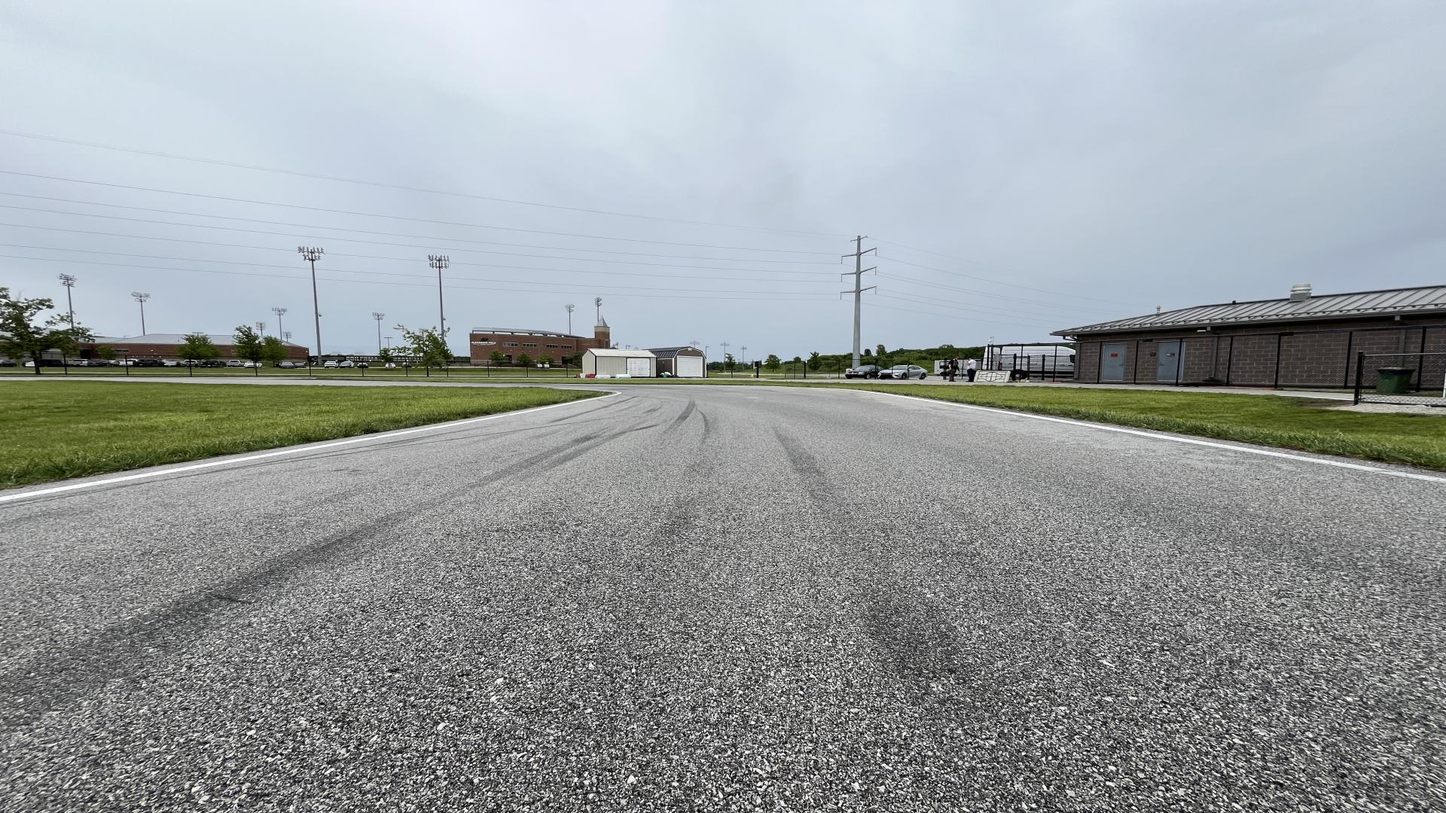white-line: (121, 446, 313, 482), (1265, 451, 1445, 483), (308, 424, 449, 452), (998, 410, 1149, 436), (444, 400, 579, 428), (1144, 431, 1274, 457), (0, 477, 127, 503), (896, 394, 1001, 413), (830, 387, 900, 398), (579, 391, 621, 403), (1367, 466, 1399, 477), (556, 388, 608, 391), (780, 386, 834, 388), (532, 383, 571, 385), (488, 386, 525, 388), (523, 386, 557, 388), (602, 384, 651, 385), (735, 385, 783, 386), (492, 383, 535, 384), (570, 384, 602, 385), (700, 385, 737, 385), (651, 385, 700, 385)
